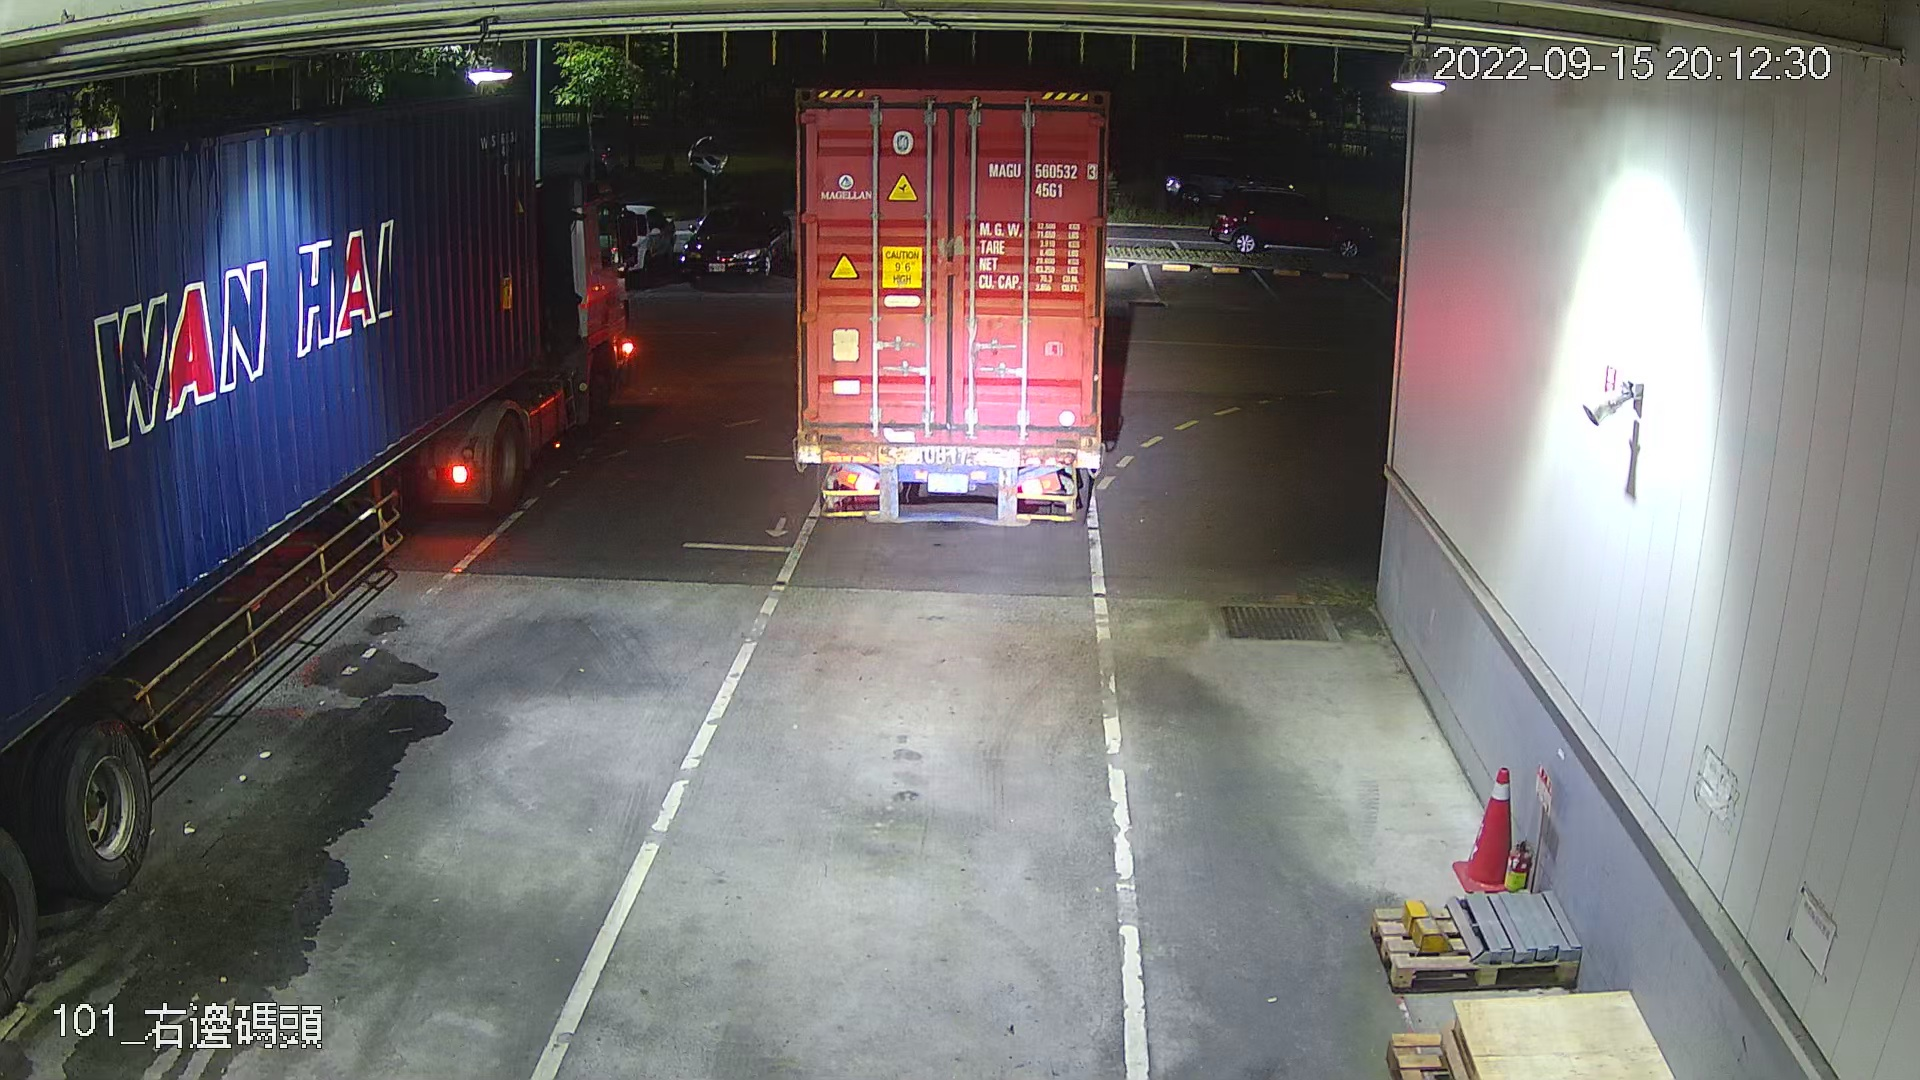container: (984, 154, 1101, 204)
